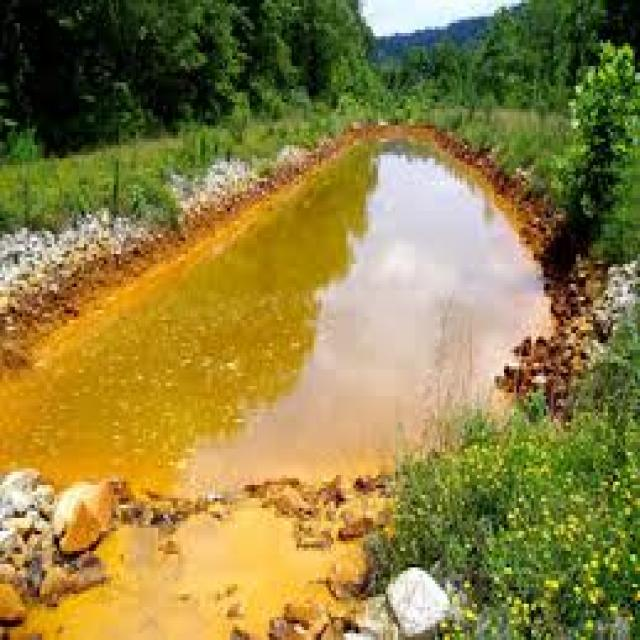yellow_boy: (0, 139, 549, 637)
